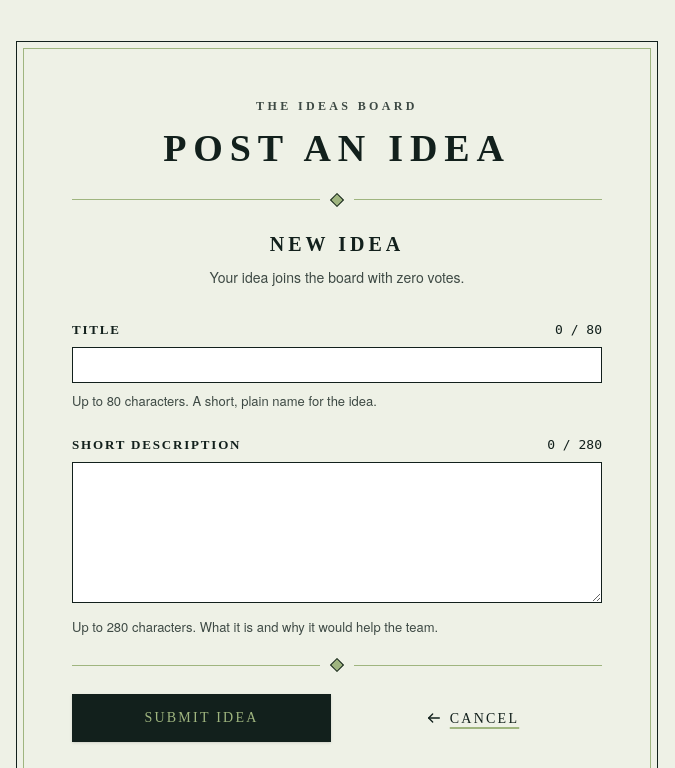
Test: Post an Idea › [AC-021] shows an error and keeps the form when the server fails
Type "A title" into the field with test id "title-max-80-characters-input" at {"x": 337, "y": 365}, box [72,347,602,383]
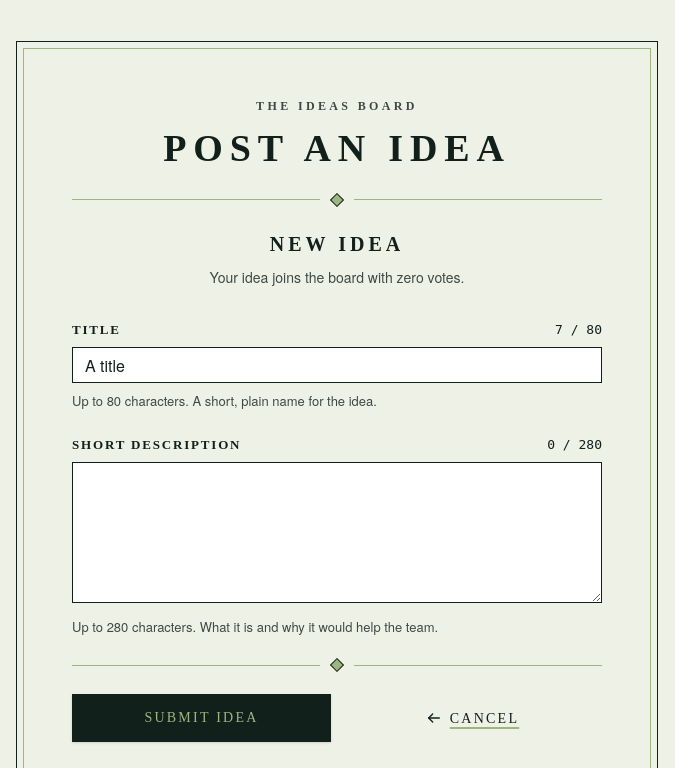
Type "A description" into the text box with test id "short-description-max-280-characte-input" at {"x": 337, "y": 532}, box [72,462,602,602]
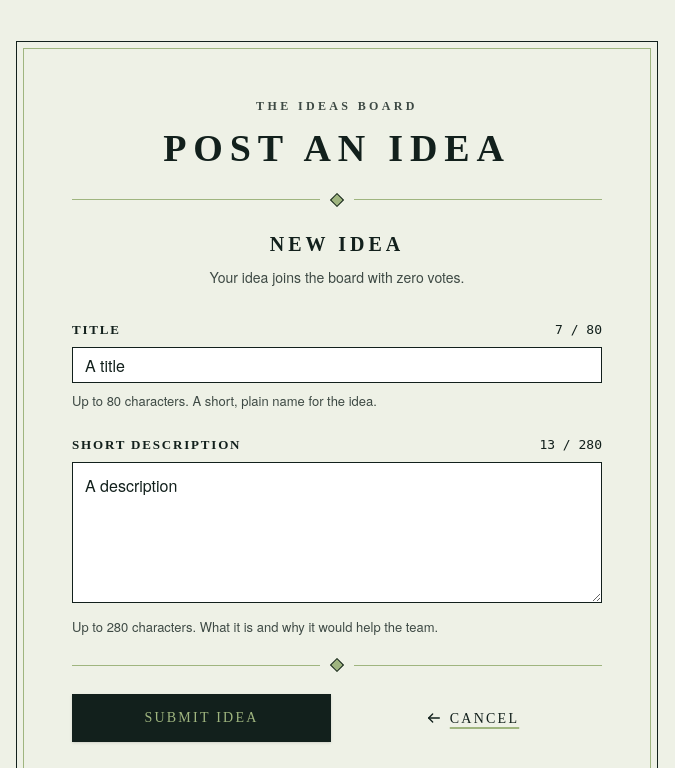
Click the button with test id "submit-idea-btn" at {"x": 202, "y": 718}, box [72,694,331,742]
(page scrolled)
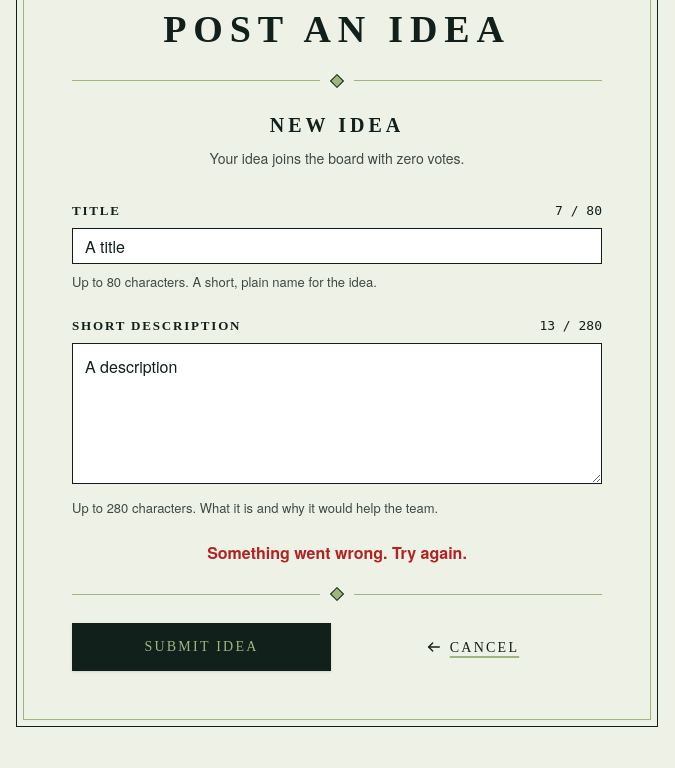
expect the button with test id "submit-idea-btn" is enabled: met, box [72,623,331,671]
expect the text "Something went wrong. Try again." is shown: met, box [207,541,467,564]
